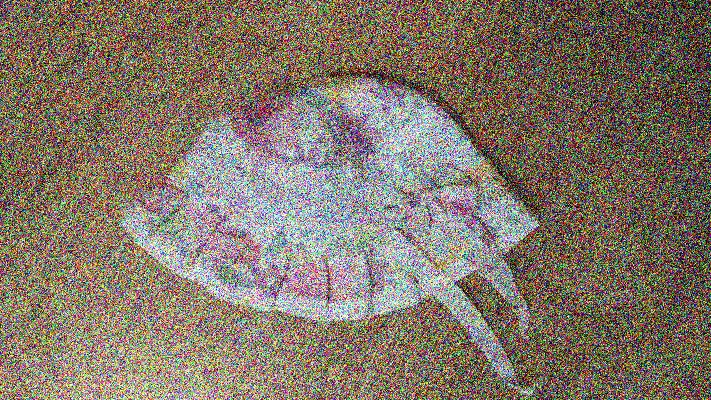Hat: (100, 48, 574, 362)
